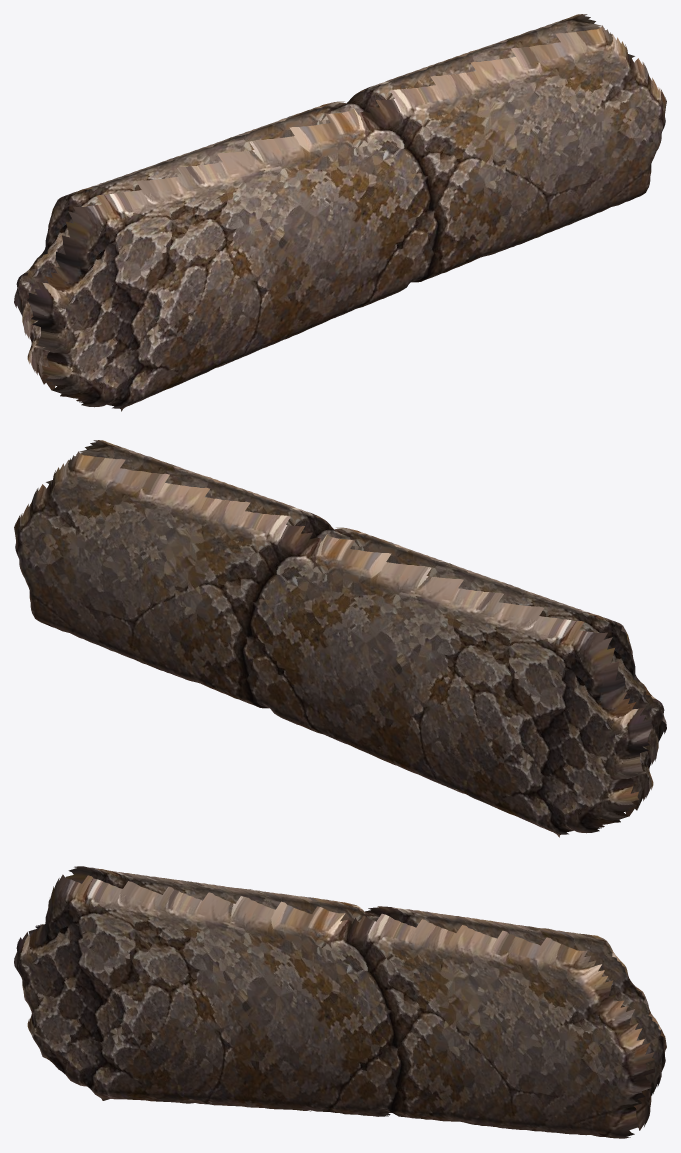
File: v4-crypt-chamber-scatter-collapsed-column.glb
3 views of the same model, one above another, from view 1: azimuth 30°, elevation 25°; view 2: azimuth 150°, elevation 25°; view 3: azimuth 330°, elevation 25° (orthographic).
Parts seen in each view (by area): view 1: v4-crypt-chamber-scatter-collapsed-column; view 2: v4-crypt-chamber-scatter-collapsed-column; view 3: v4-crypt-chamber-scatter-collapsed-column.
Boxes of the visible parts, <box> form: v4-crypt-chamber-scatter-collapsed-column: <box>14,14,666,411</box>; v4-crypt-chamber-scatter-collapsed-column: <box>14,440,666,837</box>; v4-crypt-chamber-scatter-collapsed-column: <box>14,866,666,1138</box>.
Size of the model in its own units: 1.45 by 0.5818 by 0.144.
1 material, 1 textured.
